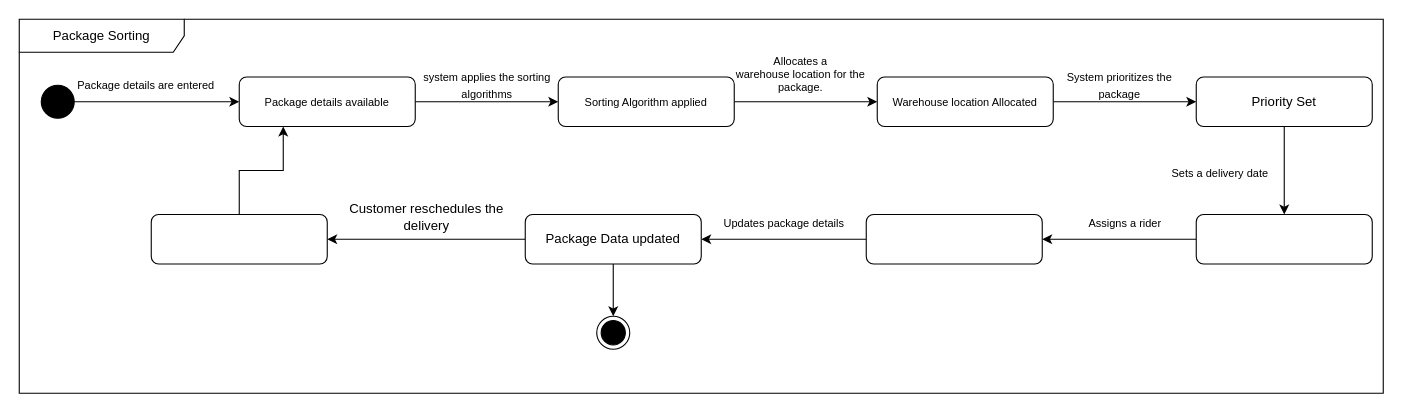
This 1403x413 diagram has some shape labels left out. The centre of each missing label's shape, as x and y in pixels:
"Delivery Date Set" goes at point (1283, 238).
"Delivery rescheduled" goes at point (238, 238).
"Rider Assigned" goes at point (953, 238).
